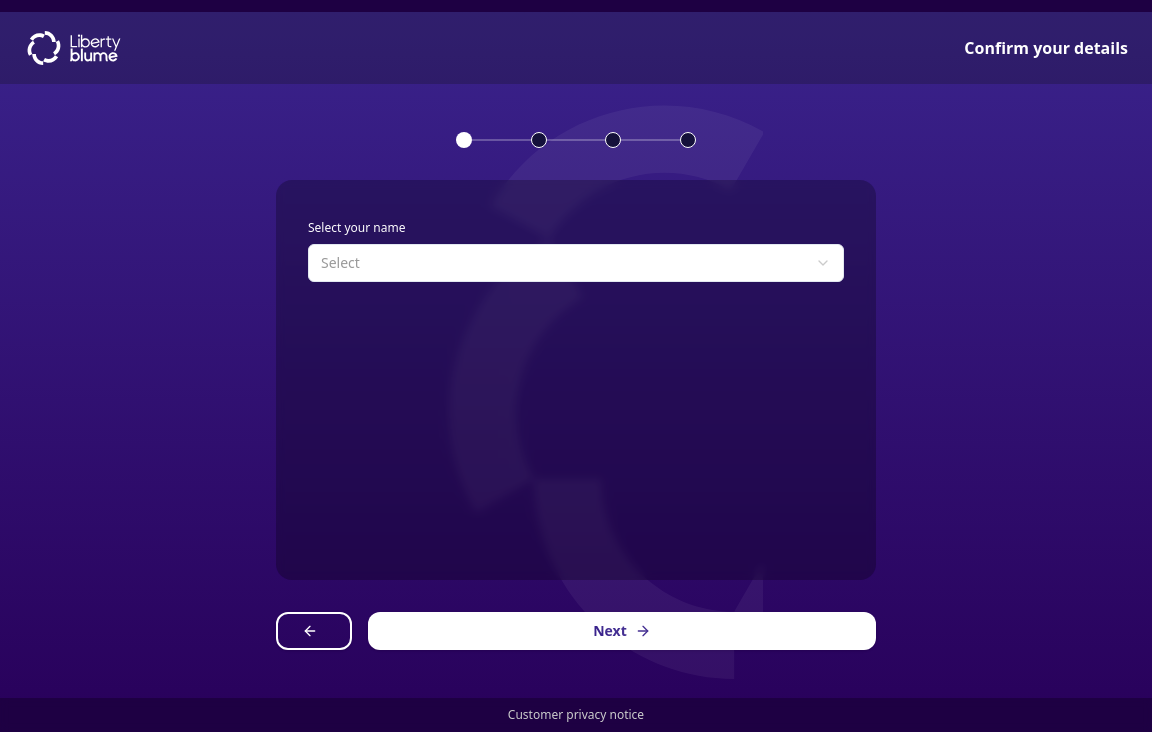
it: ConfirmName › checkbox functionality › checkbox disappears when switching from signatory to no-name-exists
Note: Select signatory
Click the dropdown. click: point(340, 262)
box: [308,244,844,282]
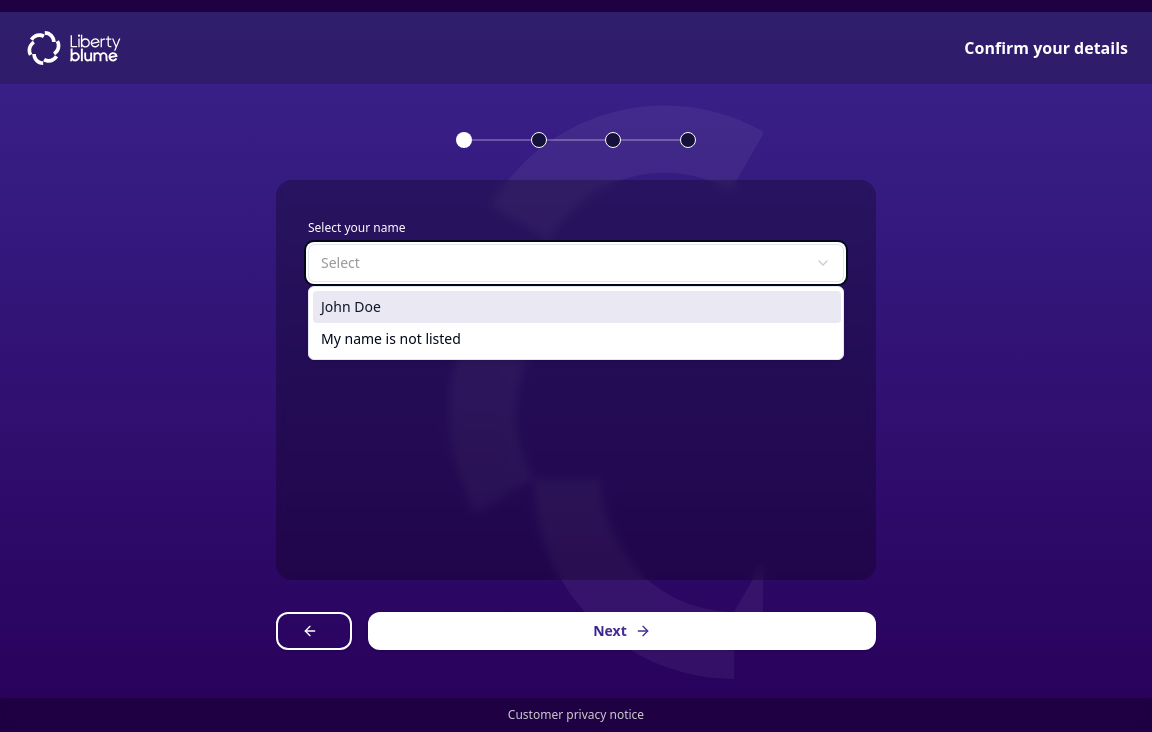
Click the option "John Doe". click: point(351, 306)
box: [313,291,841,323]
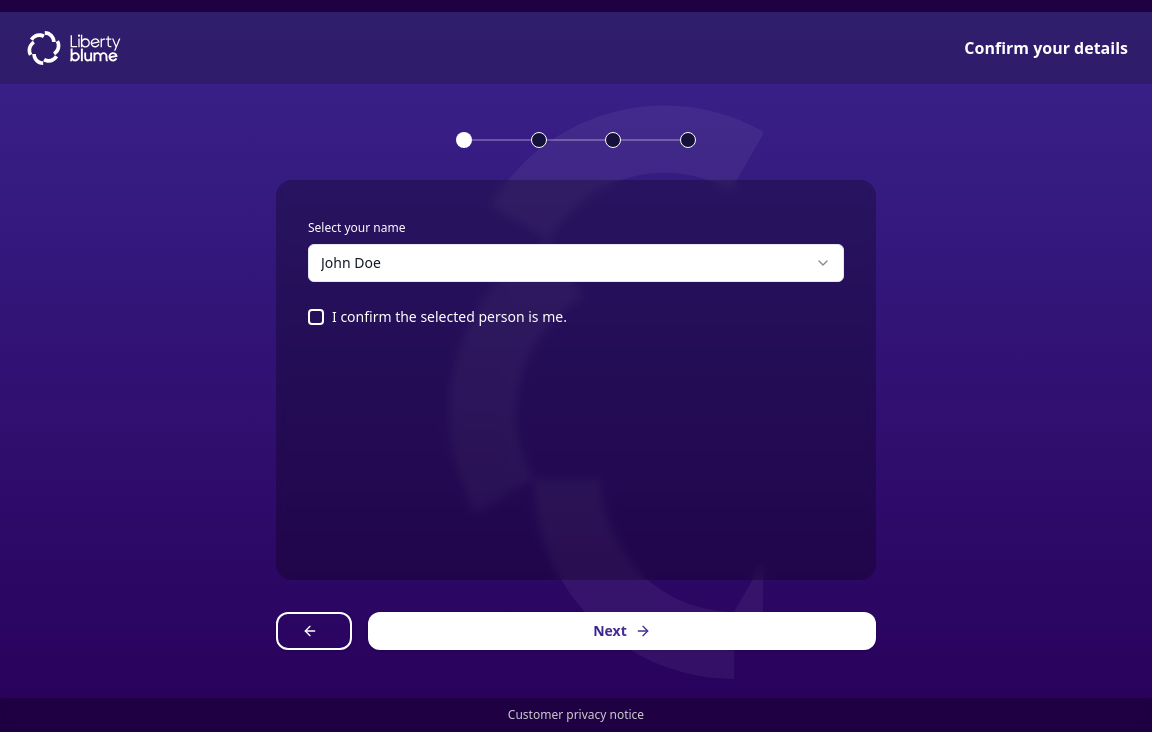
Expected: the checkbox is shown, [308,308,324,324]
Note: Switch to no-name-exists
Click the dropdown. click: point(351, 262)
box: [308,244,844,282]
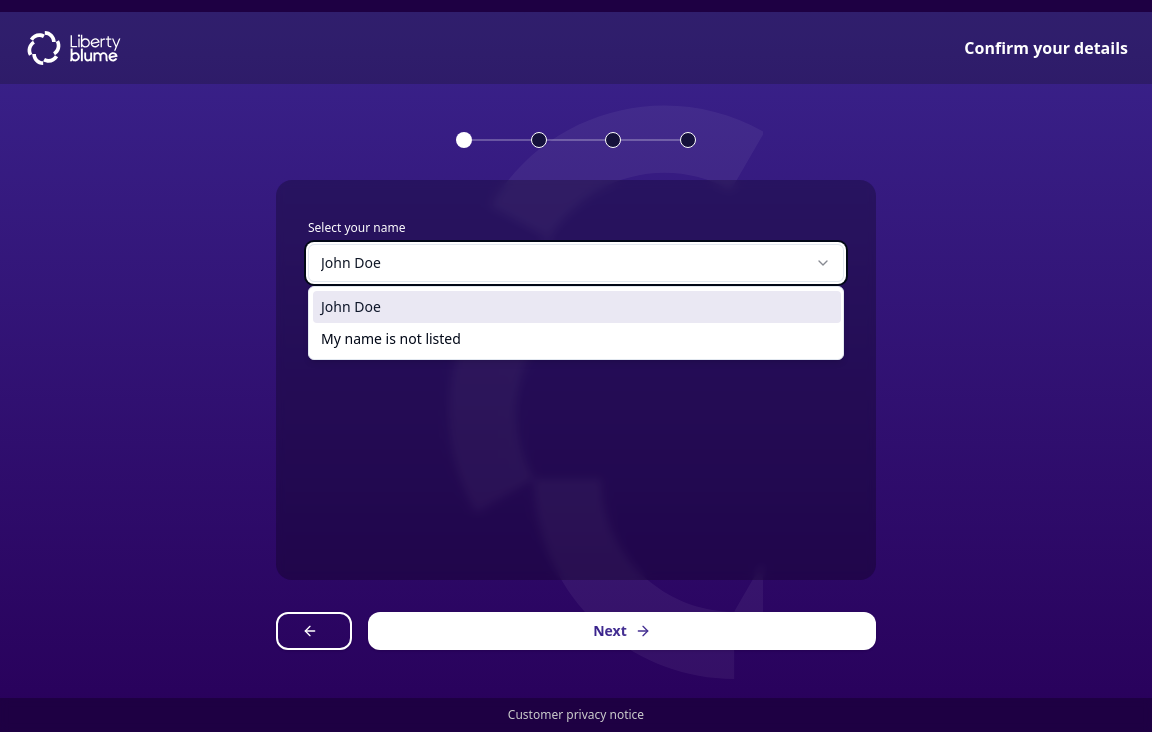
Click the option "My name is not listed". click: point(391, 338)
box: [321,329,461,348]
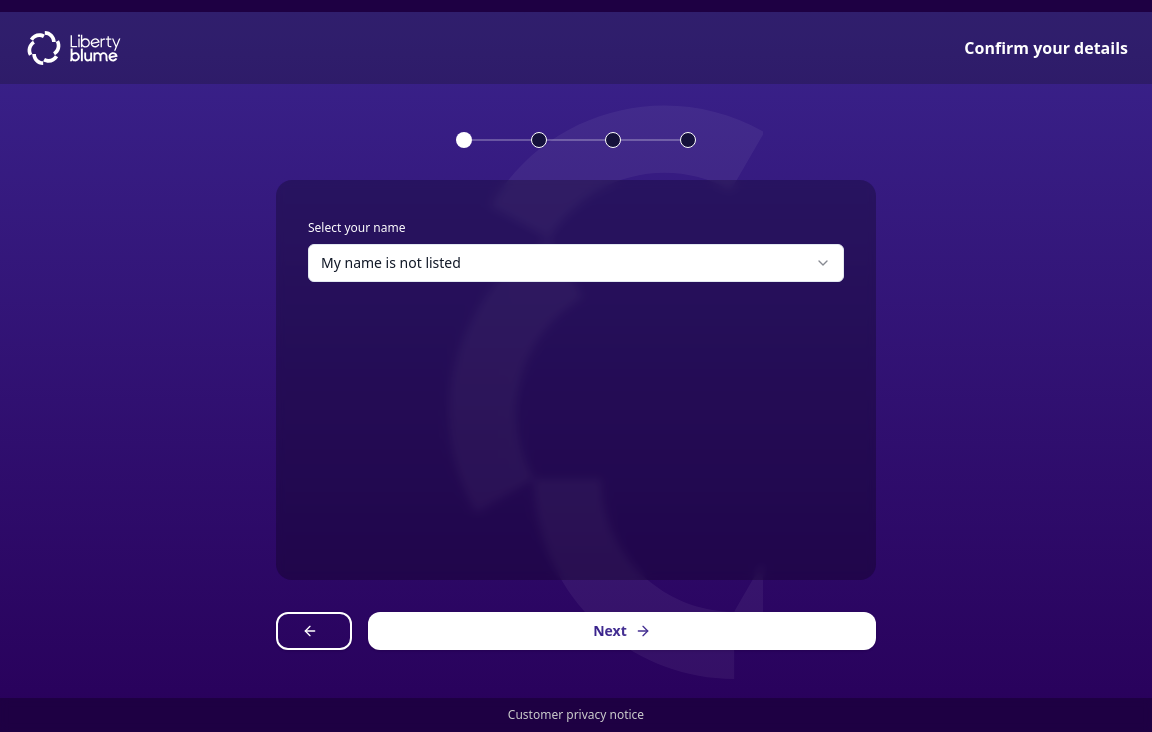
Expected: the checkbox is gone
